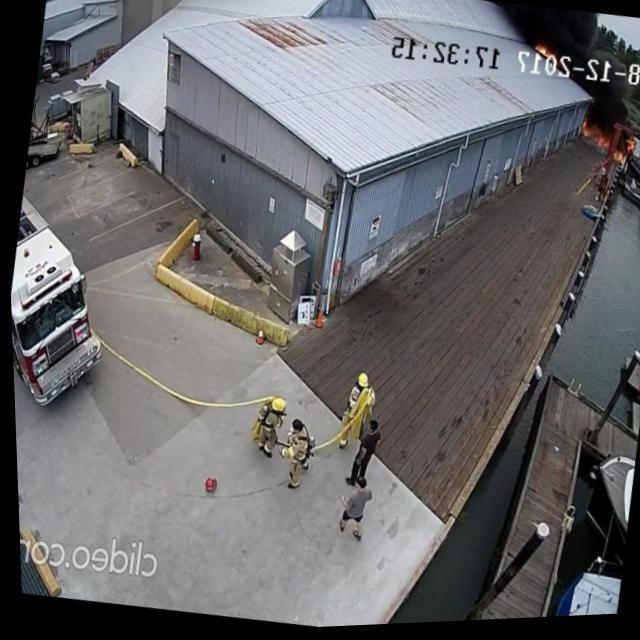fire: (578, 118, 614, 155), (609, 140, 636, 171), (529, 42, 557, 65)
